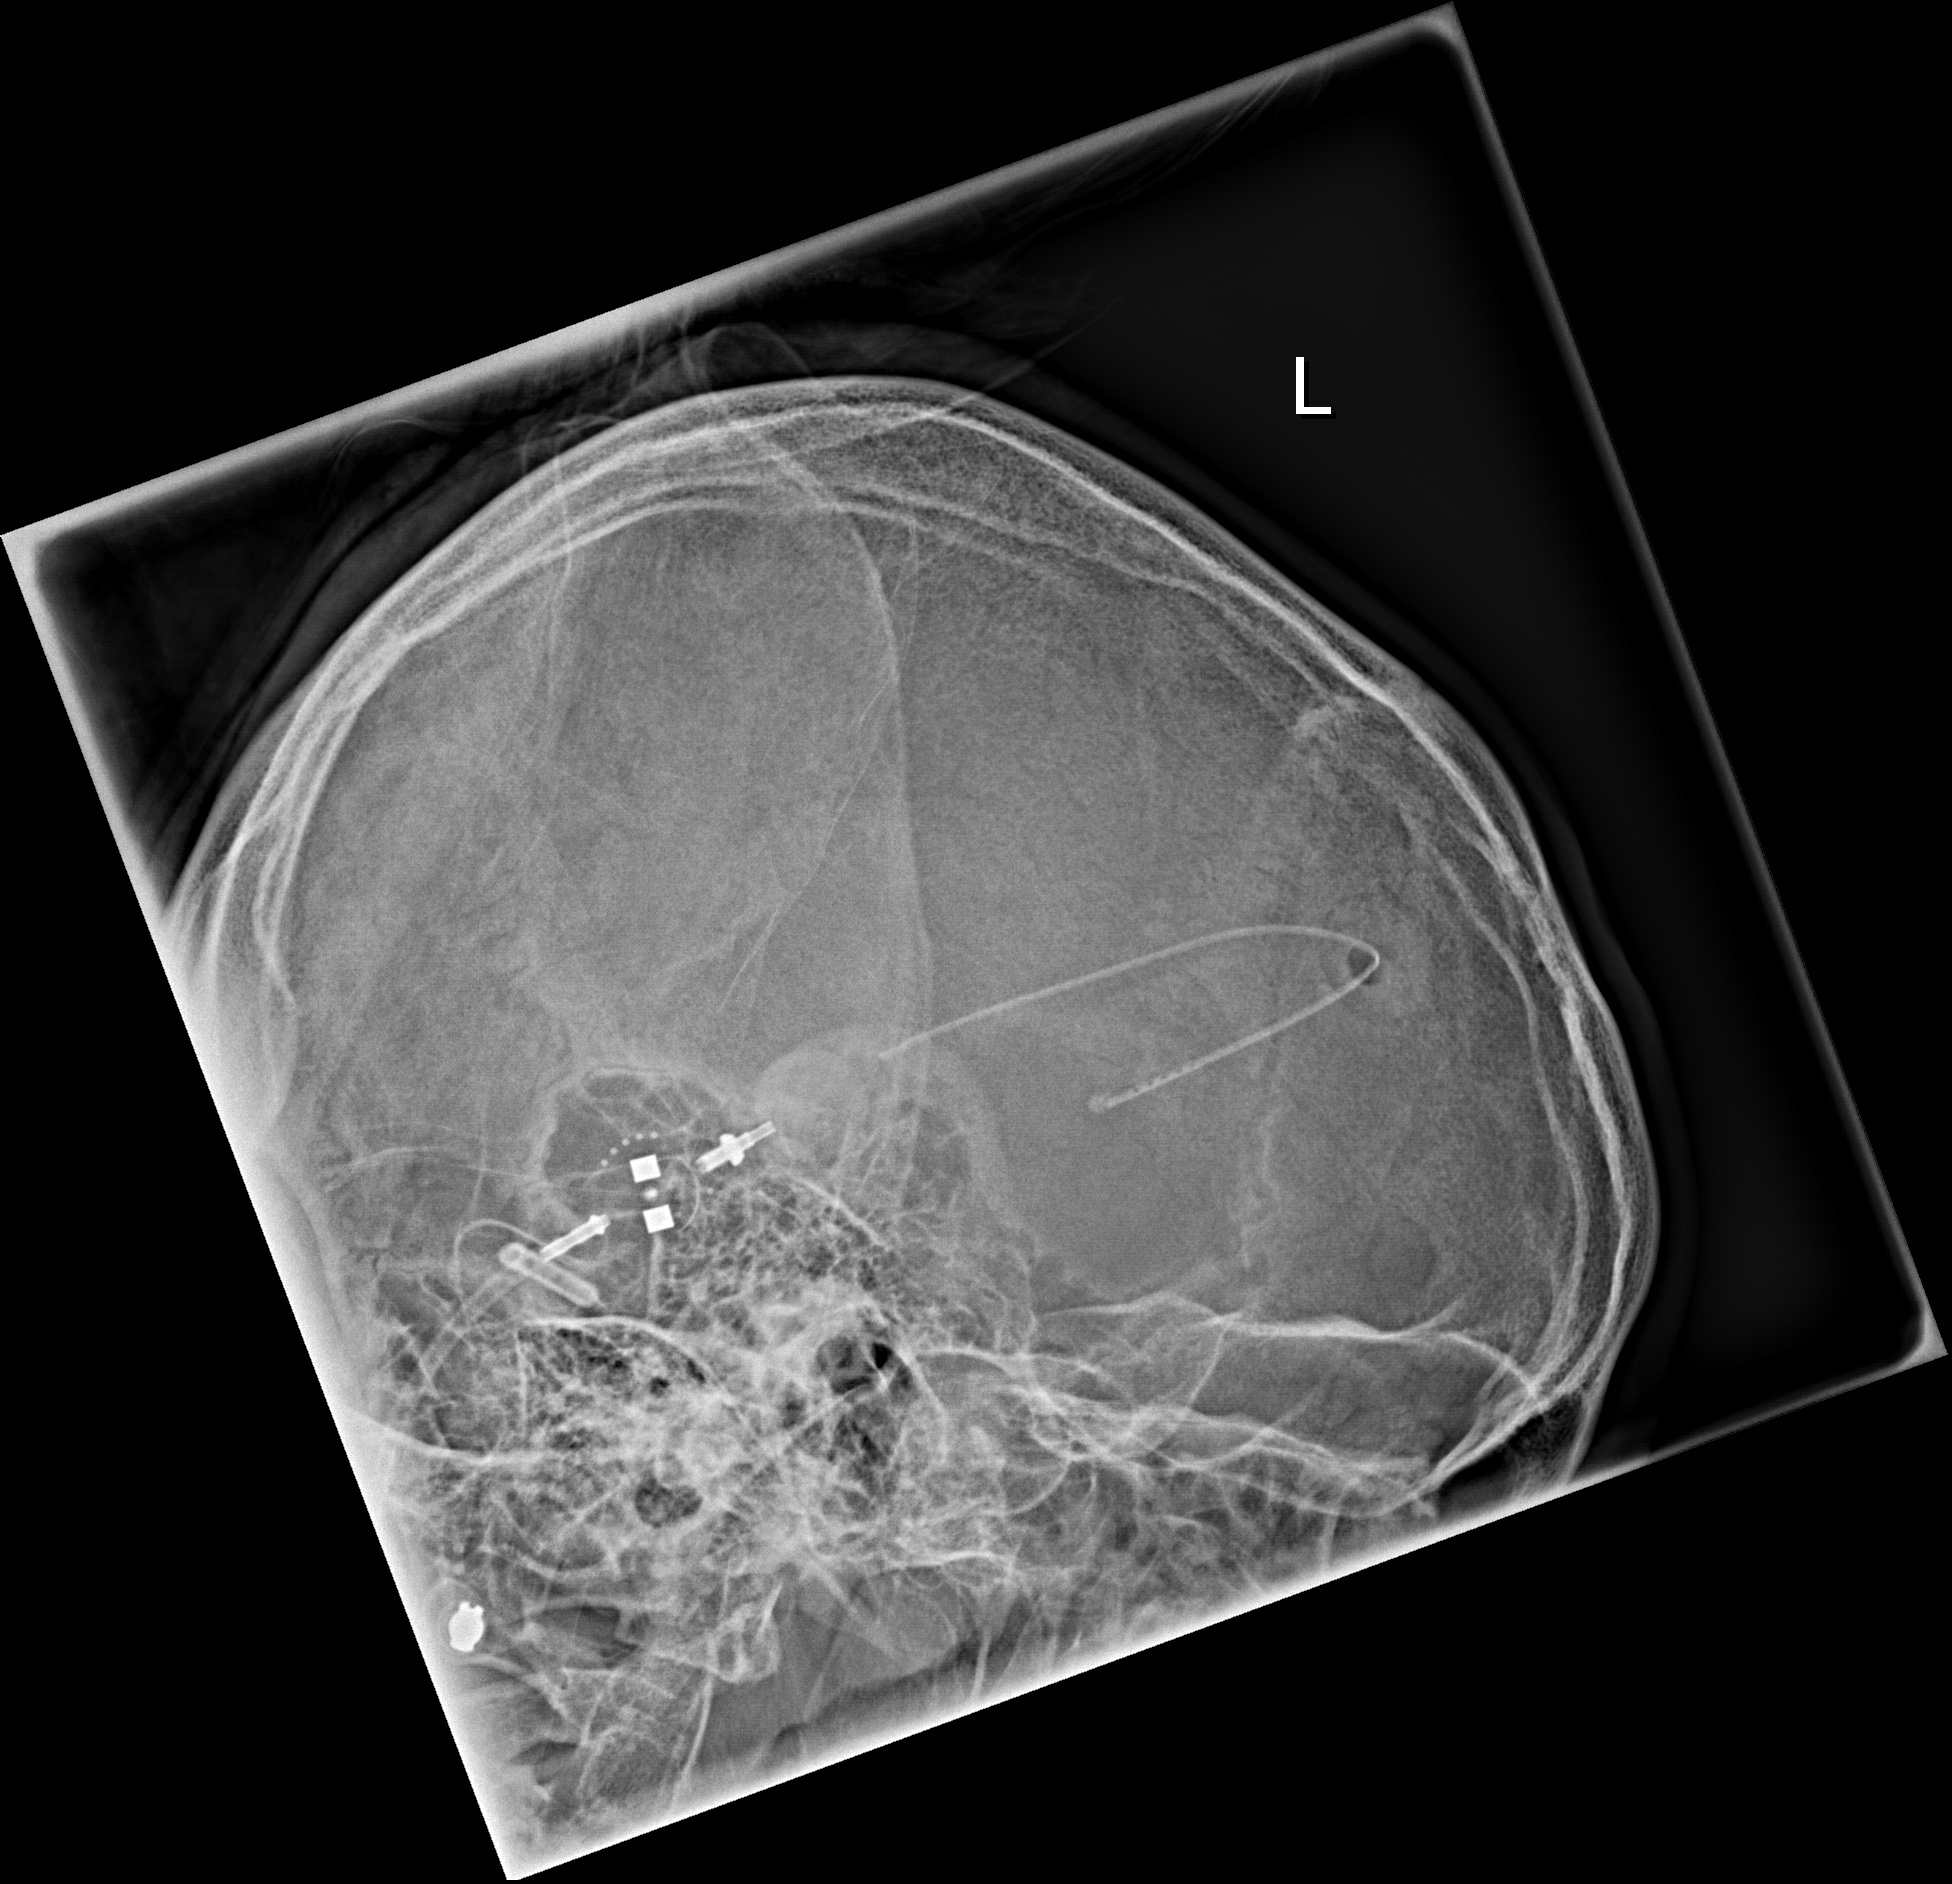Sophysa Polaris: (568, 1117, 716, 1262)
